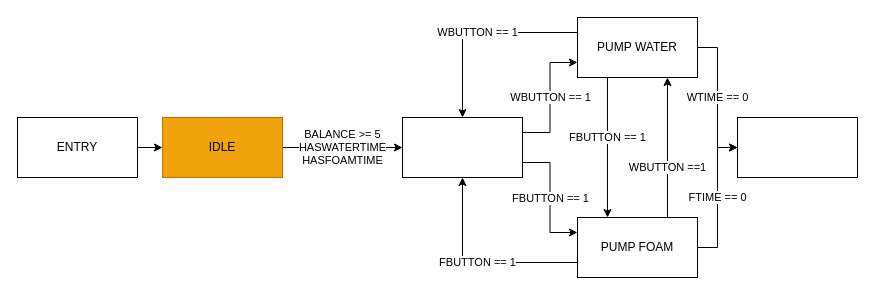
The diagram is 875 pixels wide and 295 high, and some of its shapes have lost their labels. Each missing label, with the centre of its shape:
"EXIT" goes at point 797,147.
"SELECTION" goes at point 462,147.
